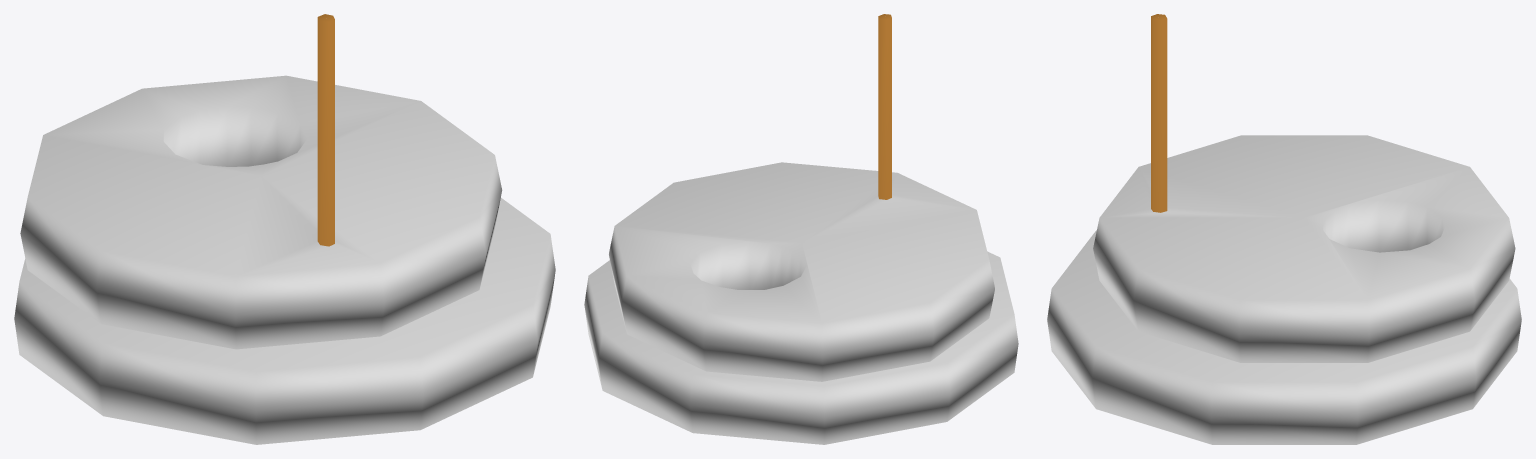
File: SM_RockMill_001.fbx
3 views of the same model, side by side, from view 1: azimuth 30°, elevation 25°; view 2: azimuth 150°, elevation 25°; view 3: azimuth 270°, elevation 25° (orthographic). The views are drawn at different scales.
Parts seen in each view (by area): view 1: RockMill; view 2: RockMill; view 3: RockMill.
Boxes of the visible parts, left/top/right/bottom form: RockMill: left=14, top=14, right=555, bottom=444; RockMill: left=584, top=14, right=1018, bottom=444; RockMill: left=1047, top=14, right=1521, bottom=444.
Bounding box in the file's own units: 60 × 47 × 63.
